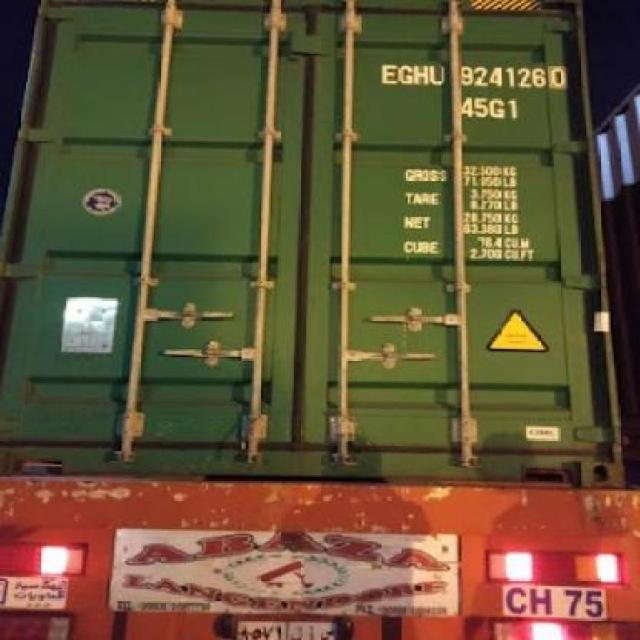ISO: (465, 95, 522, 122)
container_number: (386, 60, 566, 90)
